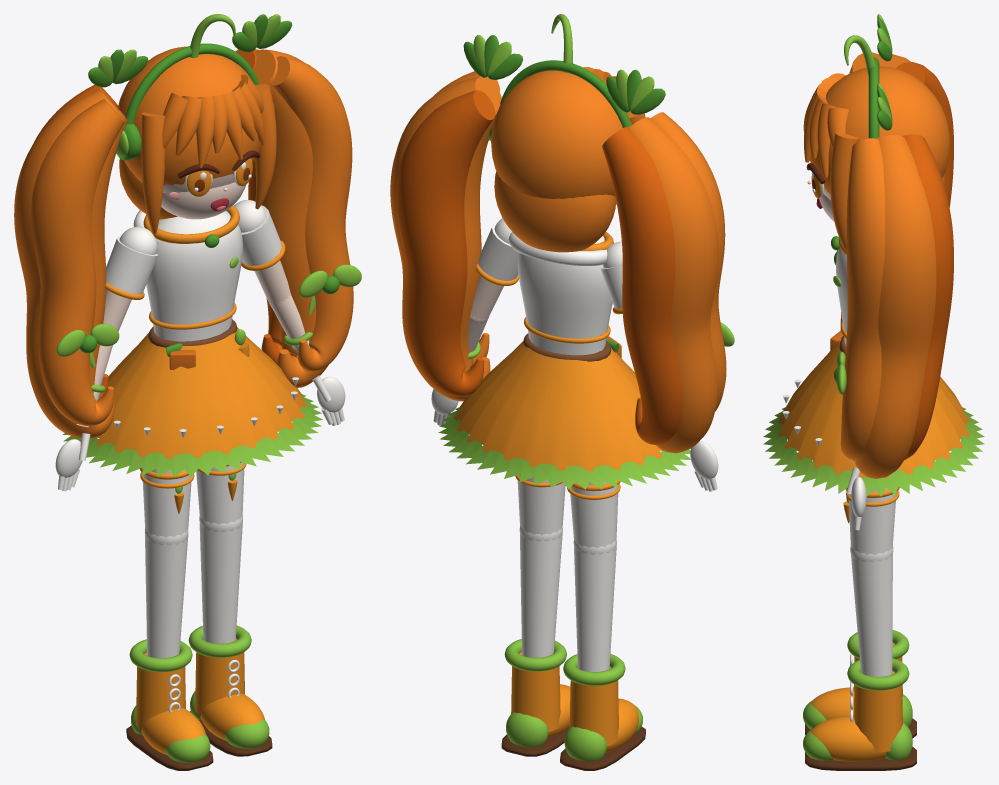
File: carrot_girl.glb
3 views of the same model, side by side, from view 1: azimuth 30°, elevation 25°; view 2: azimuth 150°, elevation 25°; view 3: azimuth 270°, elevation 25° (orthographic).
Parts seen in each view (by area): view 1: Skirt, Tail_R_1, Tail_L_1, Torso, Tail_R_0, Tail_L_0, HairCap, SkirtFrill, SockCalf_R, SockCalf_L, SockThigh_R, SideLock_R (+34 smaller); view 2: Tail_L_2, Skirt, Tail_R_2, HairCap, Tail_R_0, Torso, Tail_L_0, HairBack, SkirtFrill, SockCalf_R, SockCalf_L, Tail_R_1 (+18 smaller); view 3: Tail_L_0, Tail_L_1, Skirt, HairCap, Tail_L_2, SkirtFrill, SockCalf_L, BootShaft_L, SockThigh_L, BootFoot_L, SideLock_L, Tail_R_2 (+14 smaller).
Part boxes in pixels (x1,y1,x2,y2): Skirt: [96, 327, 307, 459]; Tail_R_1: [31, 99, 124, 426]; Tail_L_1: [270, 56, 353, 371]; Torso: [146, 211, 242, 341]; Tail_R_0: [14, 89, 127, 438]; Tail_L_0: [253, 49, 328, 387]; HairCap: [118, 46, 260, 185]; SkirtFrill: [63, 394, 322, 476]; SockCalf_R: [145, 536, 188, 658]; SockCalf_L: [199, 521, 242, 643]; SockThigh_R: [142, 468, 191, 537]; SideLock_R: [141, 112, 165, 234]; Tail_L_2: [396, 90, 495, 396]; Skirt: [454, 341, 662, 471]; Tail_R_2: [602, 126, 682, 444]; HairCap: [491, 70, 631, 198]; Tail_R_0: [628, 117, 718, 453]; Torso: [517, 236, 612, 355]; Tail_L_0: [390, 76, 501, 401]; HairBack: [494, 171, 615, 252]; SkirtFrill: [438, 407, 690, 489]; SockCalf_R: [573, 543, 616, 671]; SockCalf_L: [519, 529, 562, 657]; Tail_R_1: [650, 112, 726, 411]; Tail_L_0: [855, 135, 936, 478]; Tail_L_1: [840, 138, 885, 460]; Skirt: [778, 336, 969, 478]; HairCap: [810, 66, 950, 193]; Tail_L_2: [902, 134, 953, 459]; SkirtFrill: [763, 407, 984, 496]; SockCalf_L: [850, 552, 892, 676]; BootShaft_L: [853, 671, 902, 752]; SockThigh_L: [848, 487, 896, 554]; BootFoot_L: [811, 715, 886, 761]; SideLock_L: [830, 132, 859, 252]; Tail_R_2: [896, 62, 953, 207].
Size of the model in its own units: 0.8433 by 1.84 by 0.5146.
